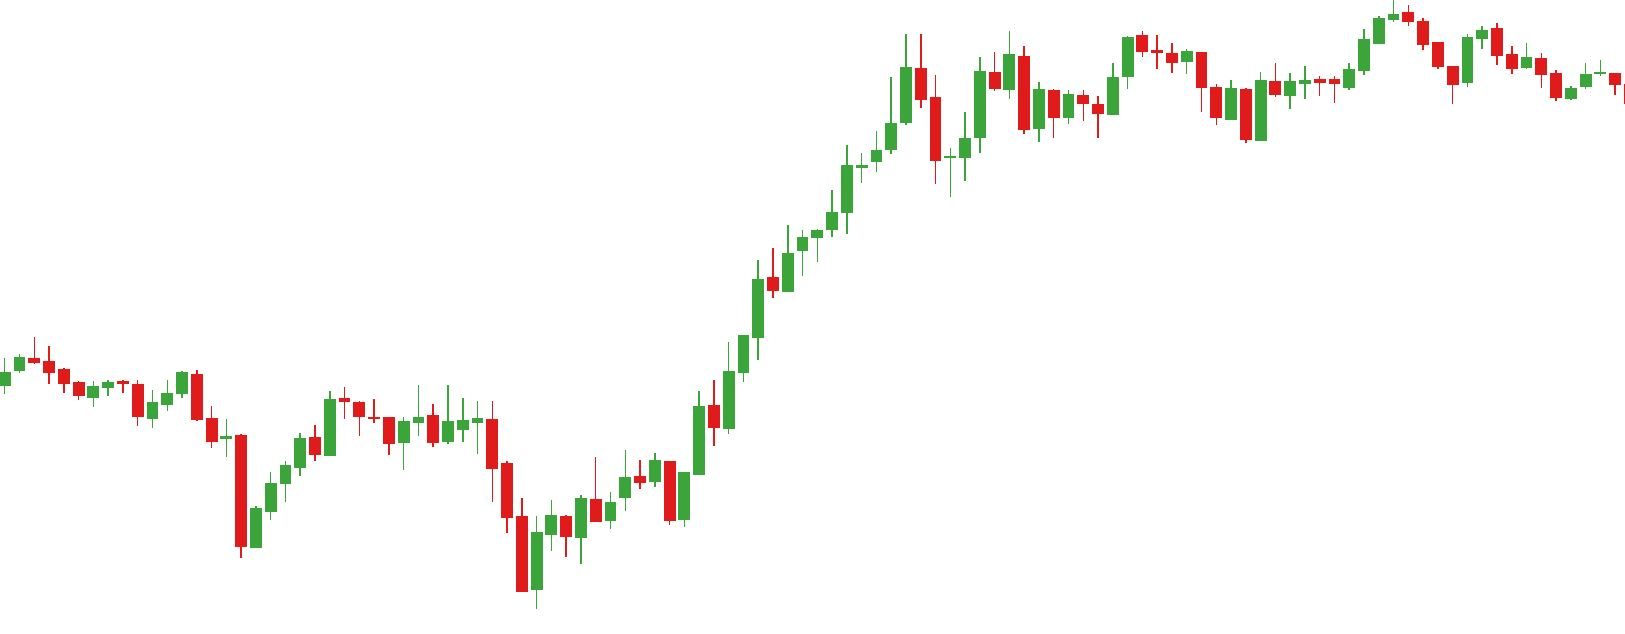buy: (232, 442, 546, 613)
